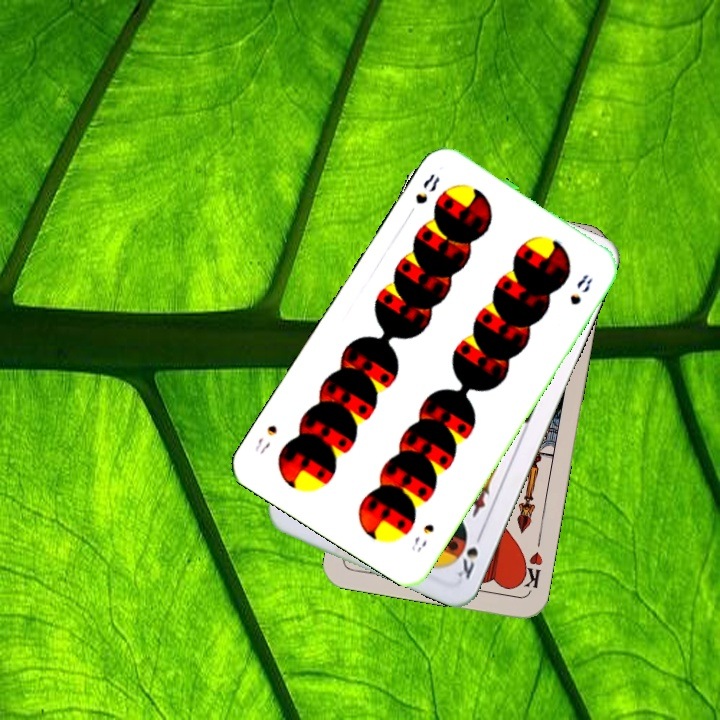HK: (514, 548, 545, 594)
S8: (411, 169, 443, 207), (407, 519, 437, 555)
SK: (453, 527, 486, 582)
